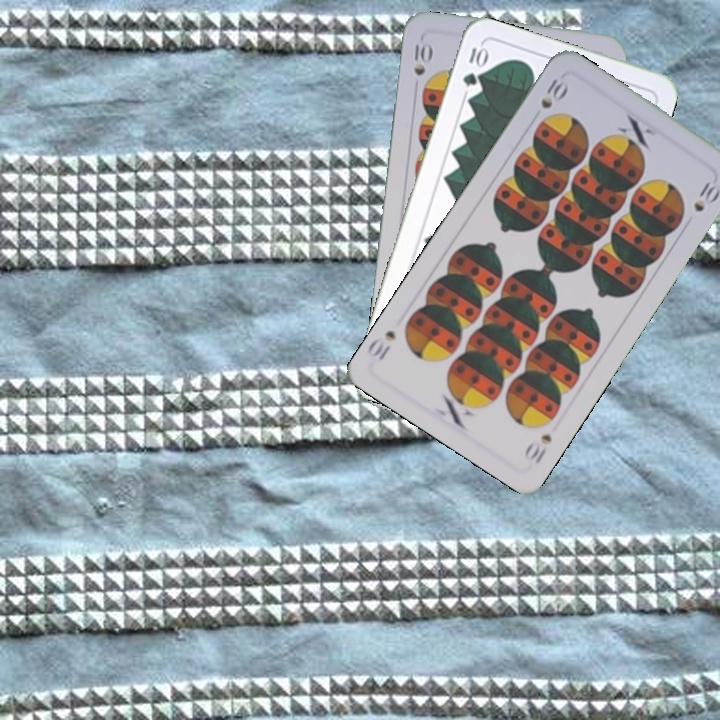G10: (458, 41, 489, 89)
S10: (536, 72, 572, 112), (520, 430, 555, 466), (410, 40, 433, 78)
